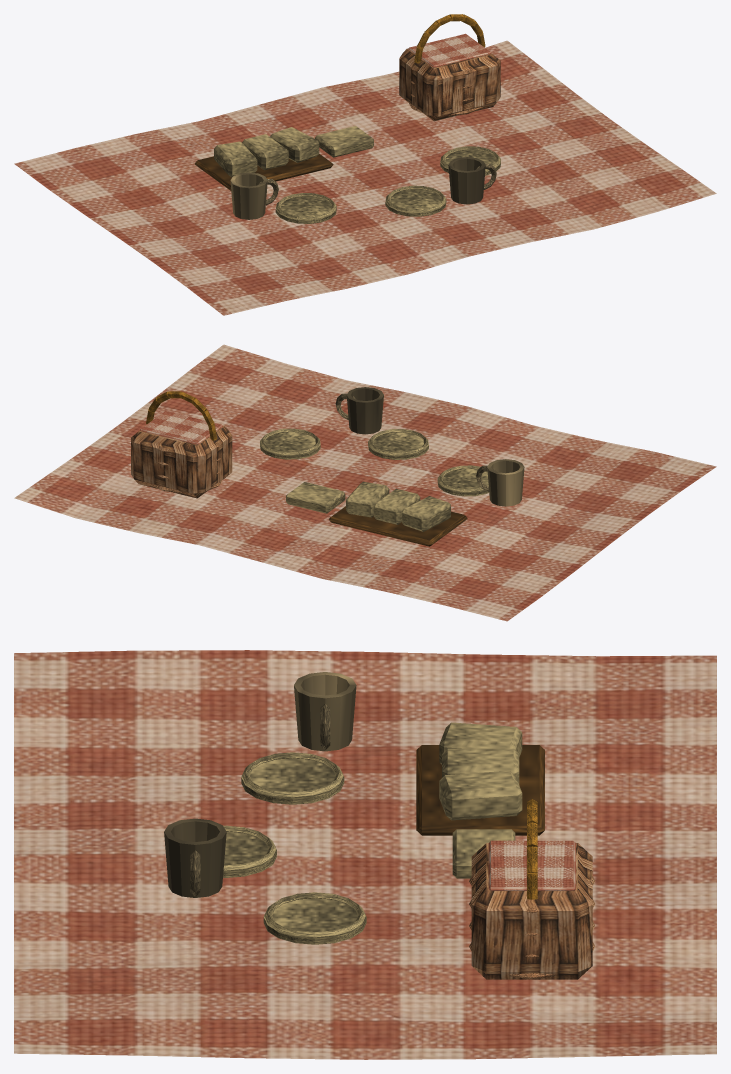
Rendered from west-picnic-blanket.glb.
3 views of the same model, one above another, from view 1: azimuth 30°, elevation 25°; view 2: azimuth 150°, elevation 25°; view 3: azimuth 270°, elevation 25° (orthographic). The views are drawn at different scales.
Visible parts, largest first — view 1: west-picnic-blanket; view 2: west-picnic-blanket; view 3: west-picnic-blanket.
Boxes of the visible parts, box(x1,y1,x2,y2) form: west-picnic-blanket: box(14, 14, 716, 315); west-picnic-blanket: box(14, 344, 716, 621); west-picnic-blanket: box(14, 650, 716, 1059).
Bounding box in the file's own units: 8.53 × 1.64 × 6.28.
Materials: 2 (2 with a texture image).
